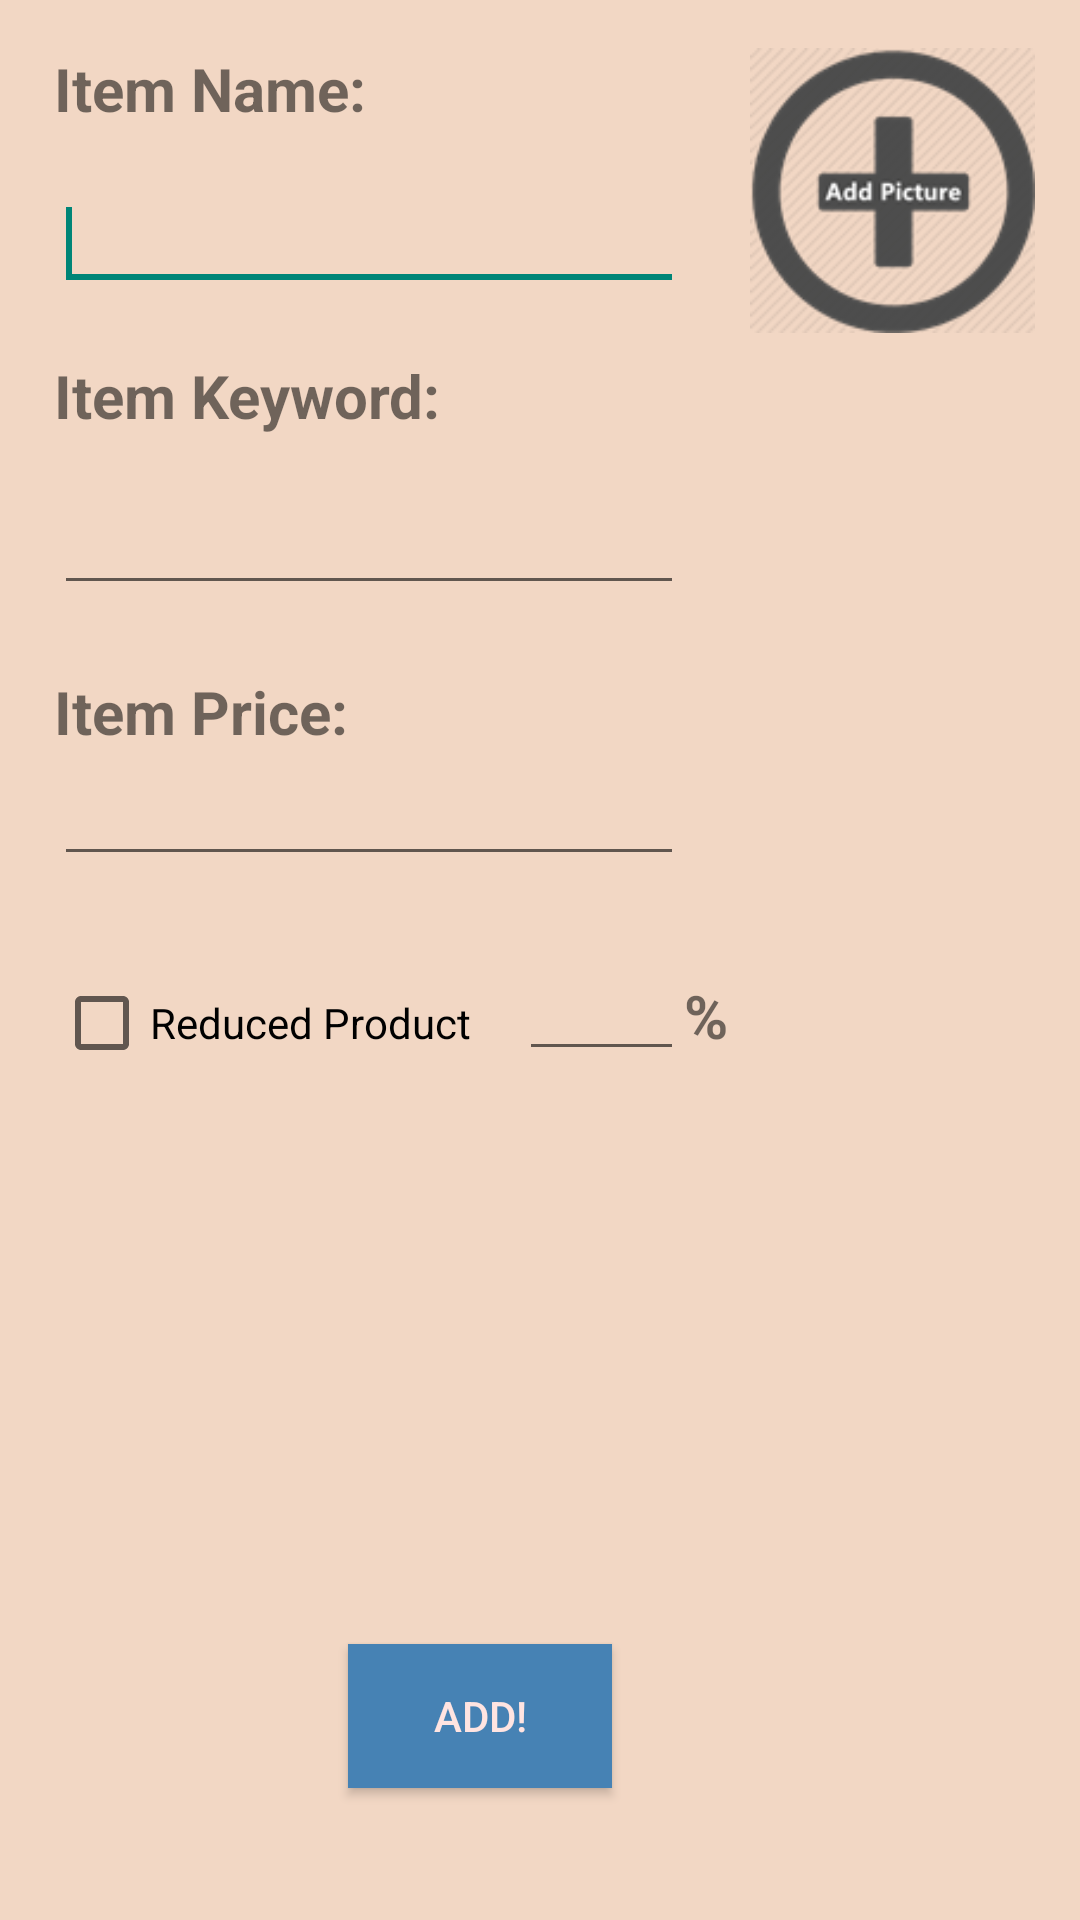

Where icons sit on this 1080 x 1920 app screen, as (x1, y1, x2, y2):
photobg: (752, 50, 1035, 333)
